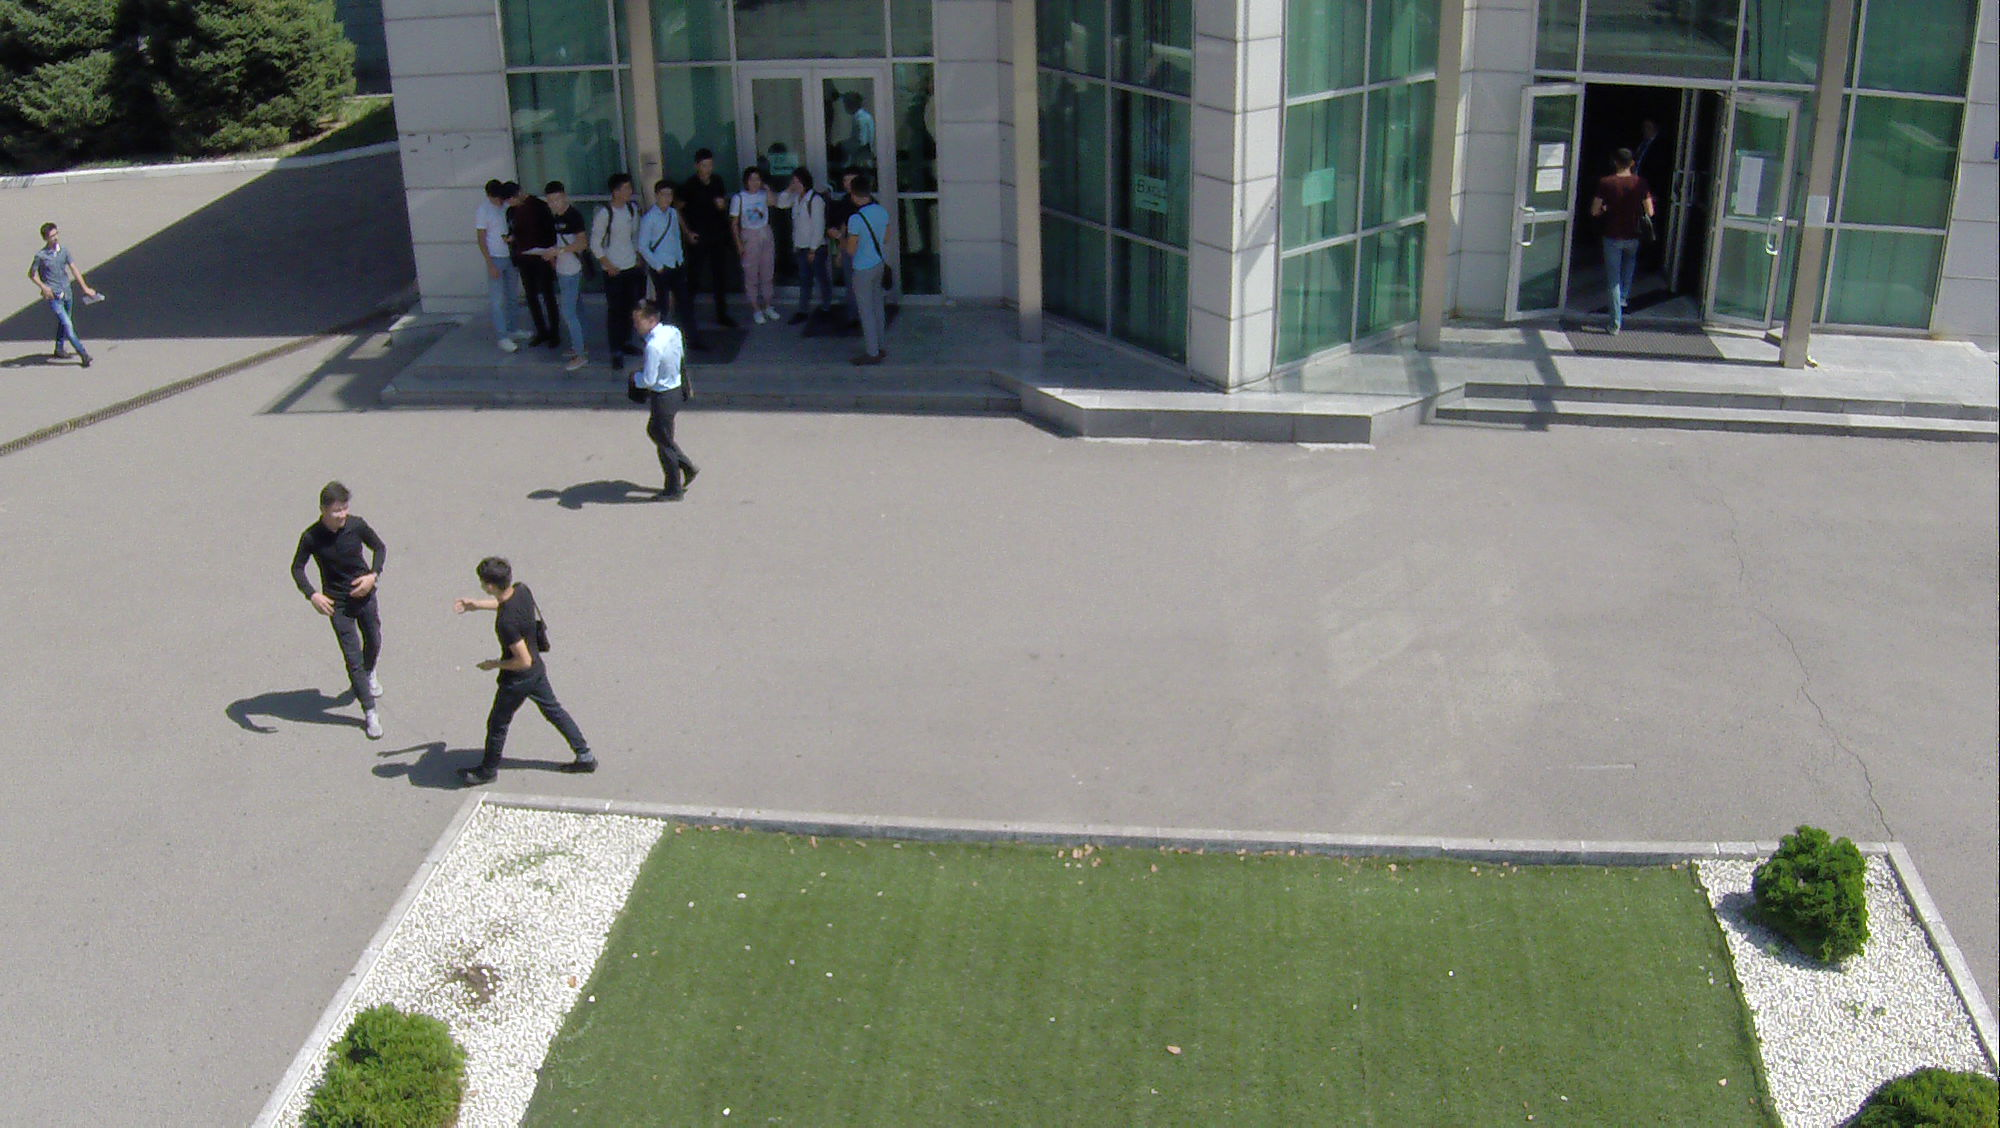person: (293, 478, 392, 735), (450, 537, 572, 747), (620, 297, 708, 515), (26, 219, 110, 369), (1584, 147, 1646, 347), (498, 175, 560, 351), (544, 183, 593, 384), (678, 147, 732, 327), (593, 168, 642, 367), (843, 178, 894, 362), (475, 173, 522, 357), (778, 164, 830, 325), (731, 164, 779, 326), (636, 175, 694, 304)
